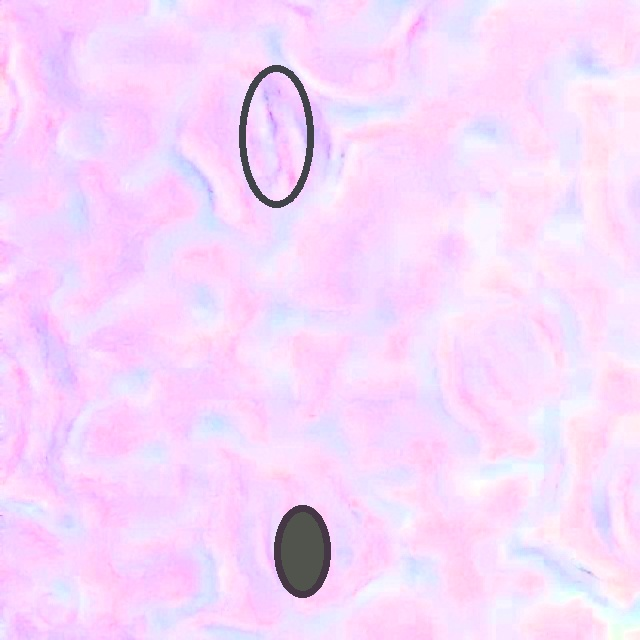open: (238, 65, 313, 208), (274, 505, 330, 597)
